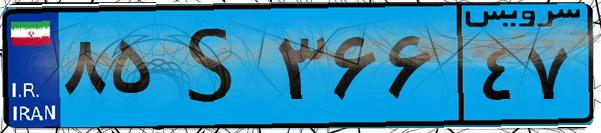3: (270, 28, 330, 110)
4: (475, 38, 525, 113)
5: (110, 28, 158, 98)
6: (385, 28, 445, 110), (330, 28, 385, 110)
7: (525, 38, 570, 115)
8: (57, 26, 110, 100)
S: (158, 12, 270, 120)
